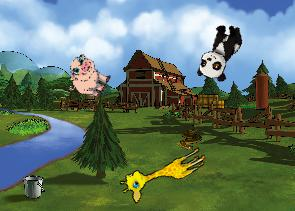giraffe: (116, 136, 209, 206)
panda: (194, 18, 246, 85)
pig: (61, 51, 115, 103)
